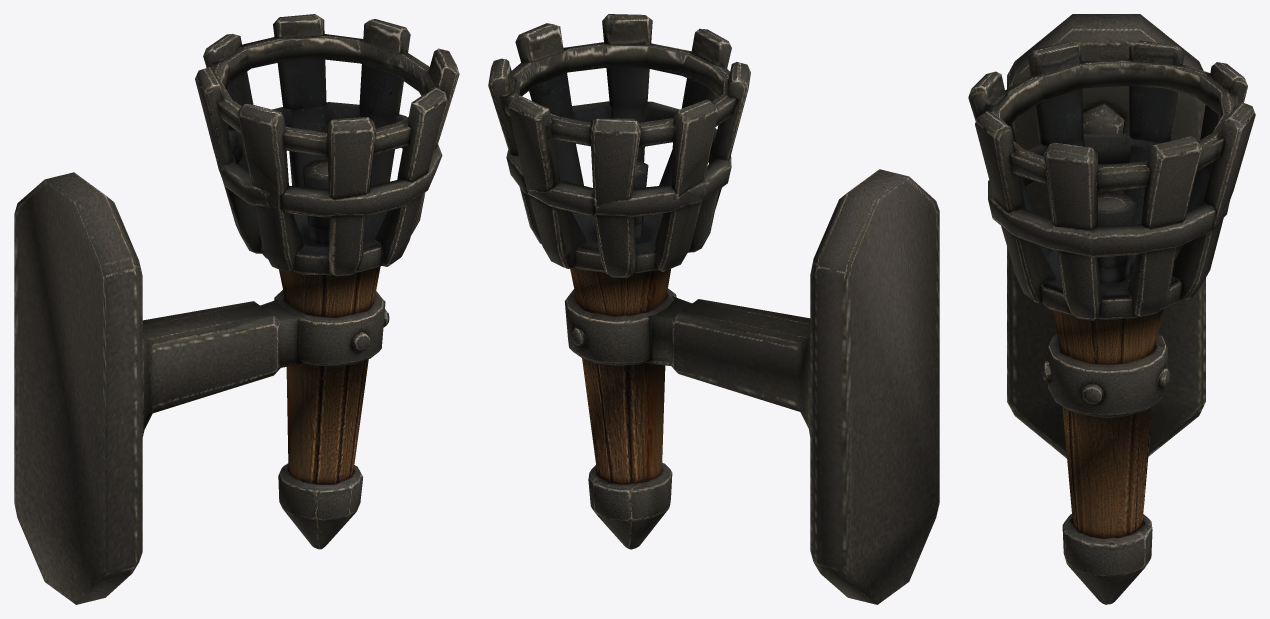
Rendered from Torch_Wall.fbx.
The picture shows the model from 3 angles, left to right: view 1: azimuth 30°, elevation 25°; view 2: azimuth 150°, elevation 25°; view 3: azimuth 270°, elevation 25°; orthographic projection. The views are drawn at different scales.
Visible parts, largest first — view 1: Torch_Wall; view 2: Torch_Wall; view 3: Torch_Wall.
Part boxes in pixels (x1=…): Torch_Wall: x1=14, y1=14, x2=459, y2=604; Torch_Wall: x1=488, y1=14, x2=939, y2=604; Torch_Wall: x1=968, y1=14, x2=1255, y2=604.
Size of the model in its own units: 83.79 by 99.8 by 50.59.
